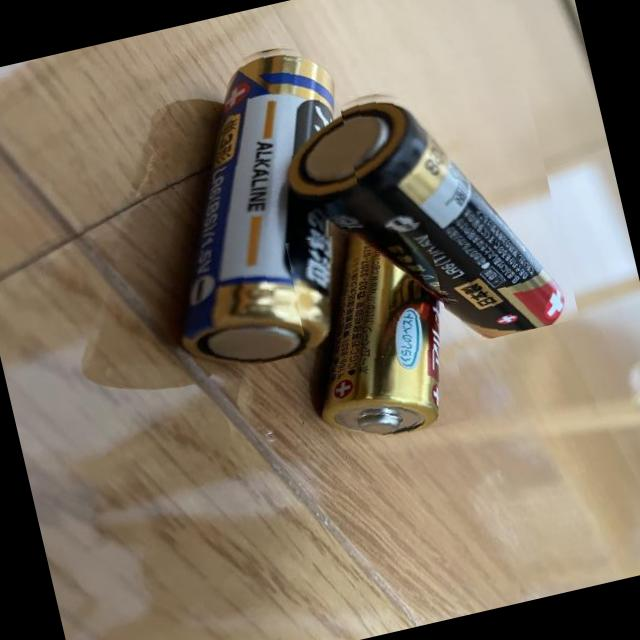Hazard: (264, 53, 578, 375), (116, 30, 392, 380), (279, 210, 470, 451)
